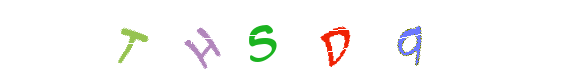9: (295, 0, 375, 80)
D: (258, 0, 338, 80)
H: (235, 0, 315, 80)
S: (242, 0, 322, 80)
T: (166, 0, 246, 80)
